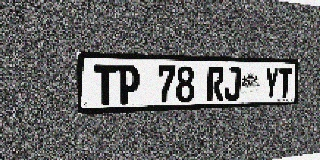7: (156, 65, 176, 103)
8: (176, 66, 195, 103)
J: (224, 67, 241, 101)
P: (118, 65, 140, 105)
R: (207, 66, 224, 101)
T: (94, 64, 117, 106), (278, 68, 293, 99)
Y: (264, 67, 279, 99)
